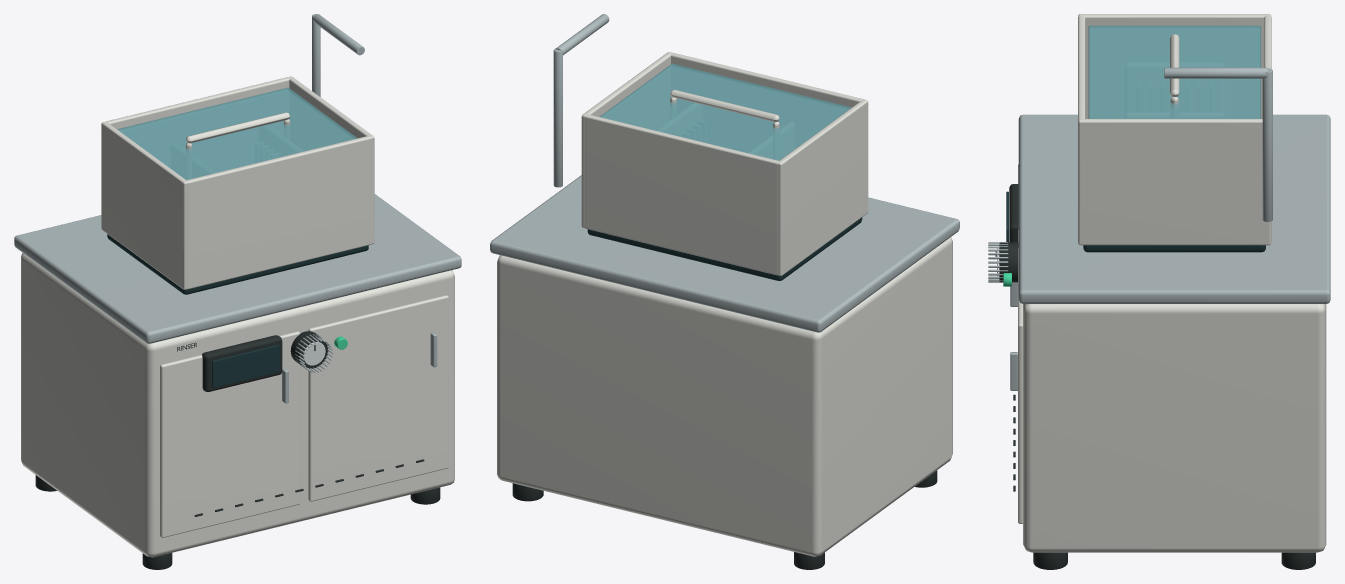
File: rinser.glb
3 renders of one model, left to right at view 1: azimuth 30°, elevation 25°; view 2: azimuth 150°, elevation 25°; view 3: azimuth 270°, elevation 25°, orthographic. The views are drawn at different scales.
Parts seen in each view (by area): view 1: Equipment_rinser_Ceramic ivory, Equipment_rinser_Brushed stainless, Equipment_rinser_DI water, Equipment_rinser_Knurled graphite, LCD.001, Equipment_rinser_Instrument glass, Carriage.001_Ceramic ivory, Knob_main.001; view 2: Equipment_rinser_Ceramic ivory, Equipment_rinser_Brushed stainless, Equipment_rinser_DI water, Equipment_rinser_Instrument glass, Equipment_rinser_Knurled graphite, Carriage.001_Ceramic ivory; view 3: Equipment_rinser_Ceramic ivory, Equipment_rinser_Brushed stainless, Equipment_rinser_DI water, Equipment_rinser_Knurled graphite, Equipment_rinser_Instrument glass, Knob_main.001, Carriage.001_Ceramic ivory.
Boxes of the visible parts, left/top/right/bottom form: Equipment_rinser_Ceramic ivory: left=21, top=76, right=454, bottom=557; Equipment_rinser_Brushed stainless: left=14, top=14, right=461, bottom=403; Equipment_rinser_DI water: left=117, top=87, right=357, bottom=179; Equipment_rinser_Knurled graphite: left=35, top=335, right=440, bottom=569; LCD.001: left=212, top=344, right=279, bottom=387; Equipment_rinser_Instrument glass: left=107, top=234, right=368, bottom=294; Carriage.001_Ceramic ivory: left=185, top=112, right=290, bottom=152; Knob_main.001: left=290, top=331, right=328, bottom=368; Equipment_rinser_Ceramic ivory: left=497, top=52, right=952, bottom=556; Equipment_rinser_Brushed stainless: left=490, top=14, right=959, bottom=332; Equipment_rinser_DI water: left=599, top=63, right=851, bottom=160; Equipment_rinser_Instrument glass: left=587, top=217, right=862, bottom=280; Equipment_rinser_Knurled graphite: left=512, top=470, right=937, bottom=569; Carriage.001_Ceramic ivory: left=670, top=90, right=779, bottom=131; Equipment_rinser_Ceramic ivory: left=1018, top=14, right=1326, bottom=552; Equipment_rinser_Brushed stainless: left=988, top=67, right=1330, bottom=390; Equipment_rinser_DI water: left=1088, top=25, right=1260, bottom=118; Equipment_rinser_Knurled graphite: left=995, top=184, right=1315, bottom=569; Equipment_rinser_Instrument glass: left=1083, top=245, right=1265, bottom=252; Knob_main.001: left=999, top=242, right=1018, bottom=282; Carriage.001_Ceramic ivory: left=1170, top=34, right=1179, bottom=107.
Bounding box in the file's own units: 1.22 × 1.56 × 0.9935.
